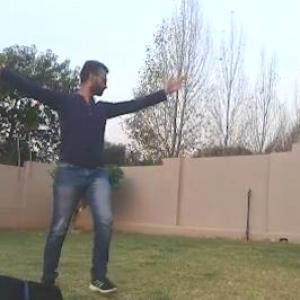takeoff: (0, 6, 252, 299)
